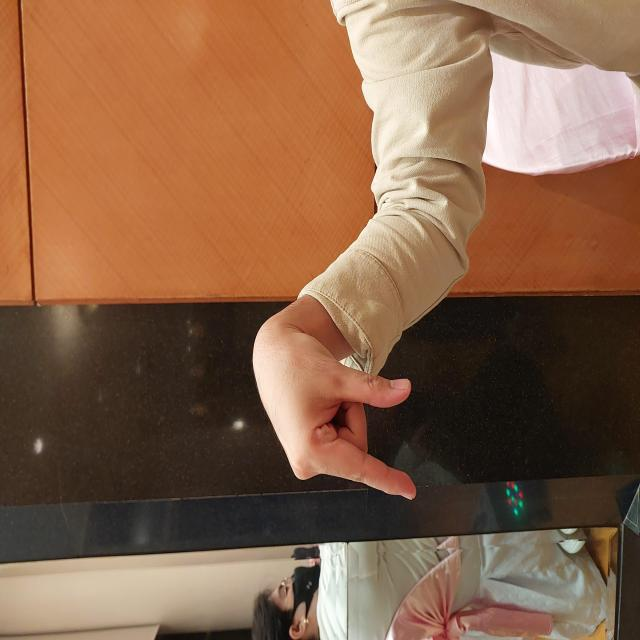Q: (136, 251, 310, 418)
